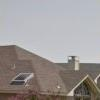Chimney: (61, 50, 85, 72)
